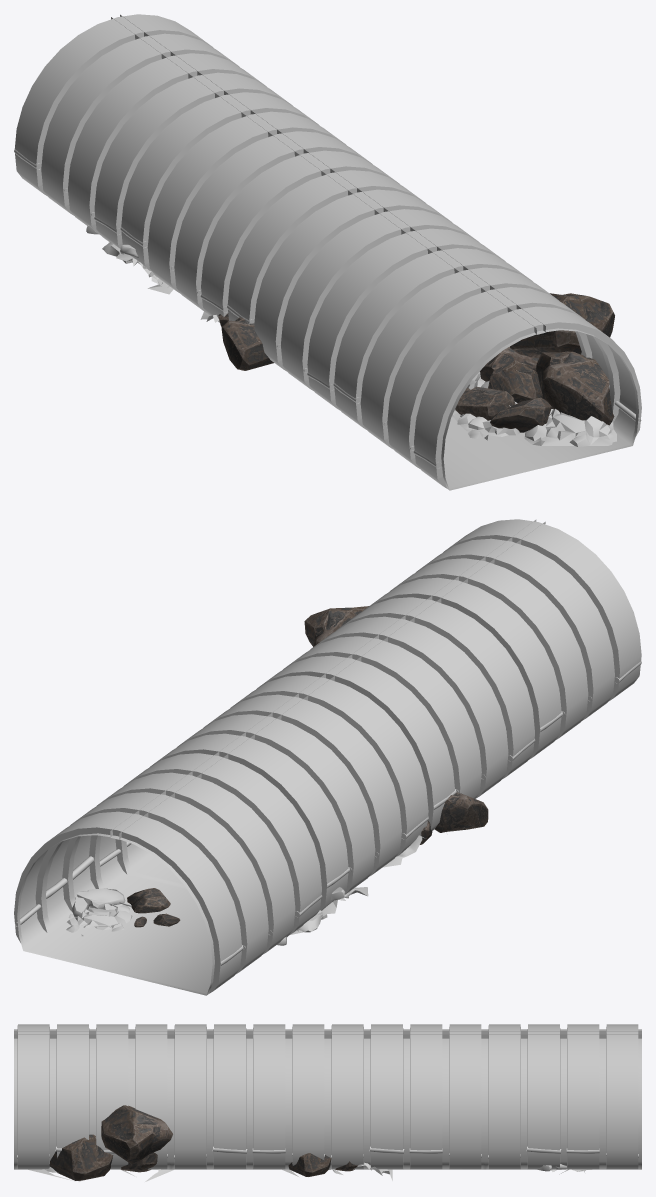
Rendered from Straight.DAE.
3 renders of one model, top to bottom at view 1: azimuth 30°, elevation 25°; view 2: azimuth 150°, elevation 25°; view 3: azimuth 270°, elevation 25°, orthographic. The views are drawn at different scales.
Parts seen in each view (by area): view 1: Shaft, Rocks, RockPile; view 2: Shaft, Rocks, RockPile, Concrete; view 3: Shaft, Rocks, RockPile.
Part boxes in pixels (x1,y1,x2,y2): Shaft: [14, 14, 641, 490]; Rocks: [218, 293, 614, 432]; RockPile: [108, 242, 616, 446]; Shaft: [14, 519, 641, 995]; Rocks: [127, 606, 488, 927]; RockPile: [66, 832, 447, 936]; Concrete: [71, 887, 345, 945]; Shaft: [14, 1024, 641, 1169]; Rocks: [49, 1105, 357, 1181]; RockPile: [28, 1162, 591, 1181].
Size of the model in its own units: 757 by 2000 by 402.
